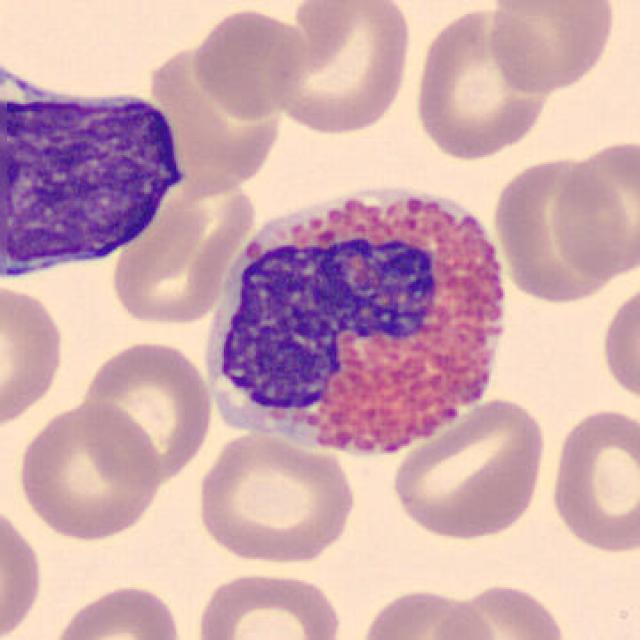Eosinophil: (192, 162, 523, 476)
Monocyte: (0, 61, 194, 303)
RBC: (126, 34, 286, 194), (388, 393, 551, 543), (190, 428, 359, 568), (411, 5, 558, 162), (108, 166, 256, 320), (15, 398, 166, 543), (488, 153, 629, 304), (76, 335, 217, 483), (267, 0, 416, 138), (186, 5, 308, 122), (546, 402, 638, 557), (547, 135, 640, 287), (484, 0, 618, 95), (190, 567, 346, 640), (0, 277, 69, 434), (432, 578, 572, 640), (46, 580, 188, 640), (354, 585, 496, 640), (0, 497, 46, 640), (598, 275, 638, 411), (421, 599, 503, 640)
